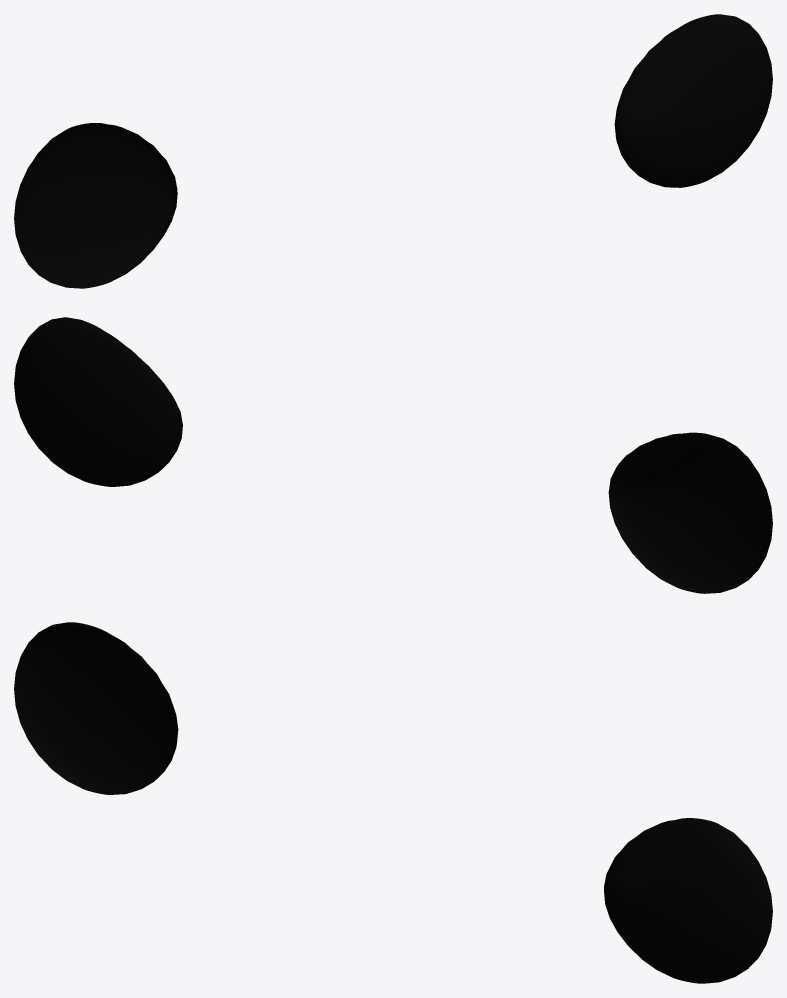
File: Evil.glb
3 views of the same model, one above another, from view 1: azimuth 30°, elevation 25°; view 2: azimuth 150°, elevation 25°; view 3: azimuth 330°, elevation 25° (orthographic).
Parts seen in each view (by area): view 1: Sphere.013; view 2: Sphere.013; view 3: Sphere.013.
Part boxes in pixels (x1=…): Sphere.013: x1=14, y1=14, x2=772, y2=288; Sphere.013: x1=14, y1=317, x2=772, y2=593; Sphere.013: x1=14, y1=622, x2=772, y2=983.
Size of the model in its own units: 0.2698 by 0.0693 by 0.0162.
Materials: 1 (1 with a texture image).
